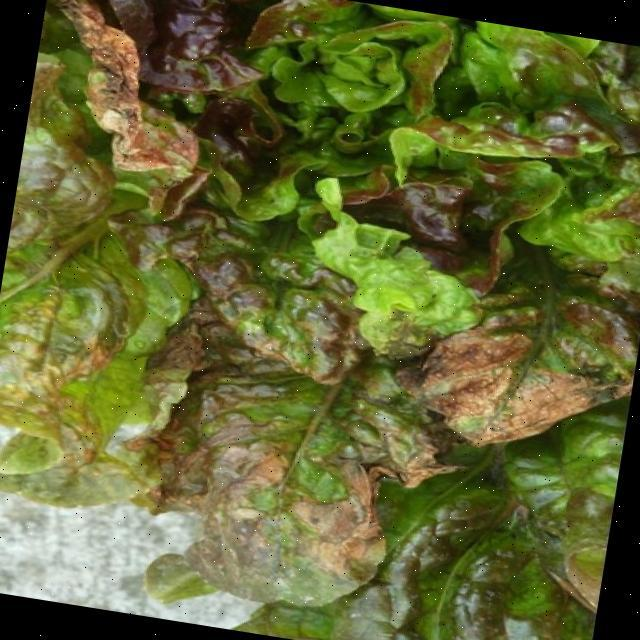Bacterial: (208, 371, 409, 588), (46, 0, 225, 185), (426, 320, 590, 458)
